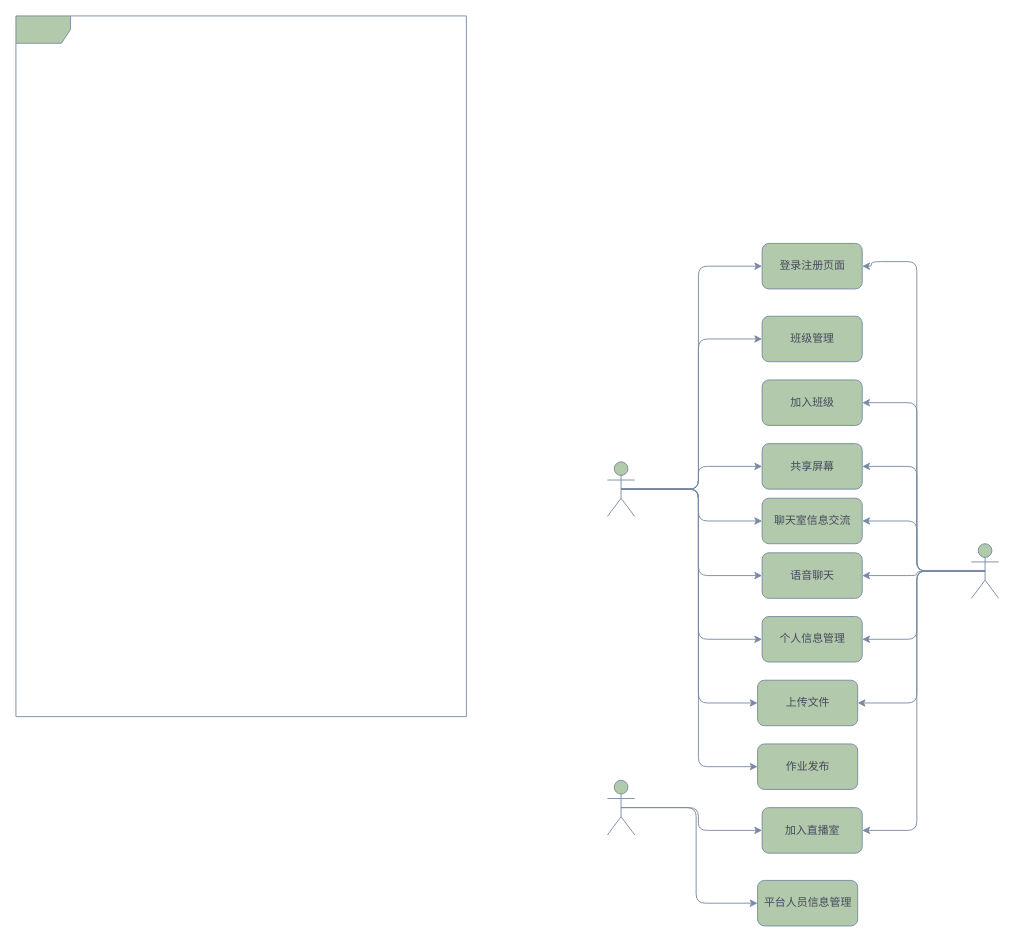
Image size: 1015x942. Some labels were removed from this diagram. Here are the shapes that lost their labels. From the top down, the centre of each, then its label:
At point 240,366: "用例".
At point 621,488: "教师".
At point 985,570: "学生".
At point 621,807: "管理员".
